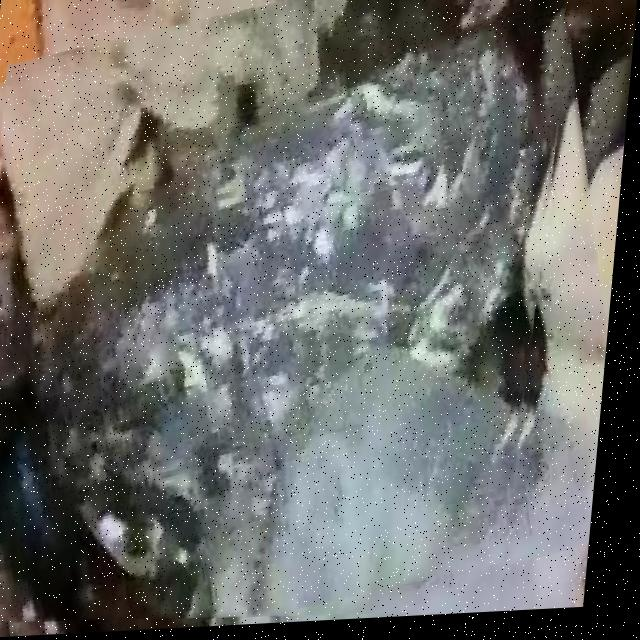plasticbottle: (0, 0, 566, 626)
